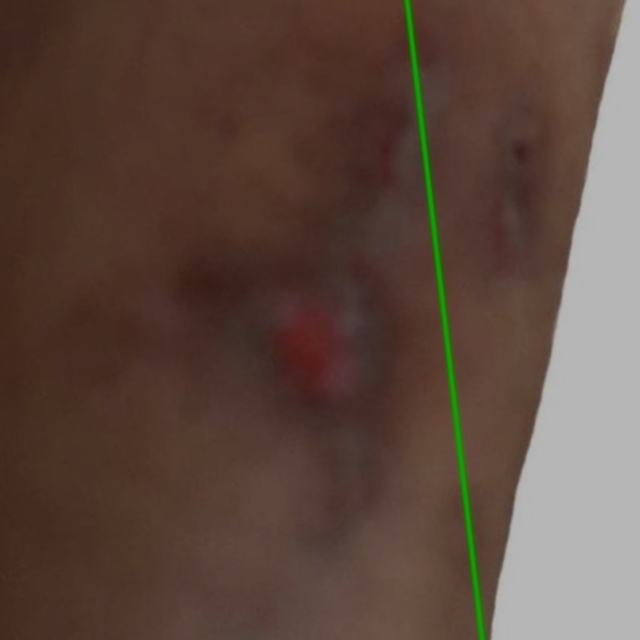Atopic Dermatitis: (407, 0, 639, 639)
